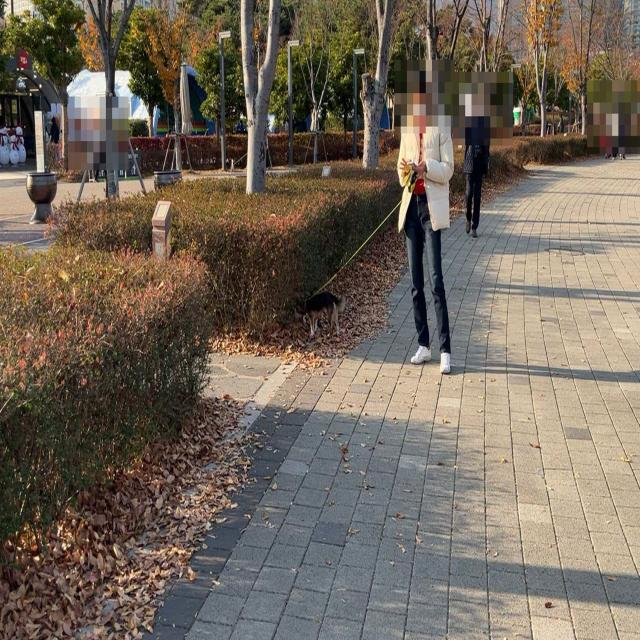Leashed_Dog: (294, 162, 427, 341)
